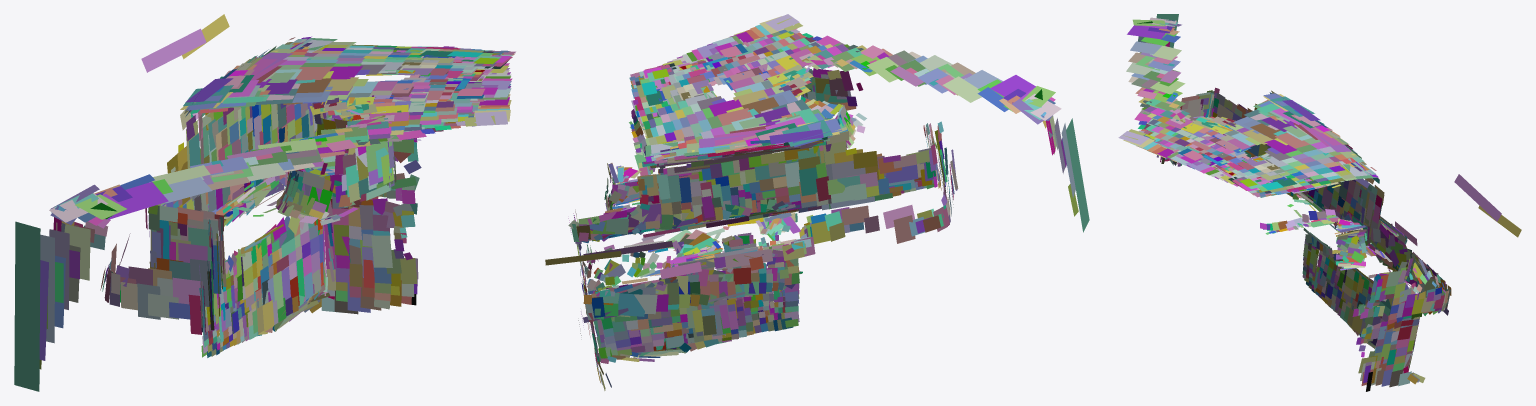
Rendered from planarSplat_rawPrims_normalized_colorPrim.glb.
The picture shows the model from 3 angles, left to right: view 1: azimuth 30°, elevation 25°; view 2: azimuth 150°, elevation 25°; view 3: azimuth 270°, elevation 25°; orthographic projection. The views are drawn at different scales.
Visible parts, largest first — view 1: planarSplat_rawPrims_normalized_colorPrim.ply; view 2: planarSplat_rawPrims_normalized_colorPrim.ply; view 3: planarSplat_rawPrims_normalized_colorPrim.ply.
Part boxes in pixels (x1,y1,x2,y2): planarSplat_rawPrims_normalized_colorPrim.ply: (14, 14, 515, 391); planarSplat_rawPrims_normalized_colorPrim.ply: (545, 14, 1089, 390); planarSplat_rawPrims_normalized_colorPrim.ply: (1118, 14, 1521, 391).
Size of the model in its own units: 4.58 by 2.83 by 4.35.
